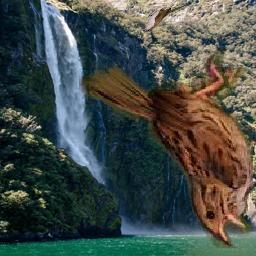Cuckoo: (143, 3, 186, 31)
Sparrow: (79, 48, 253, 248)
